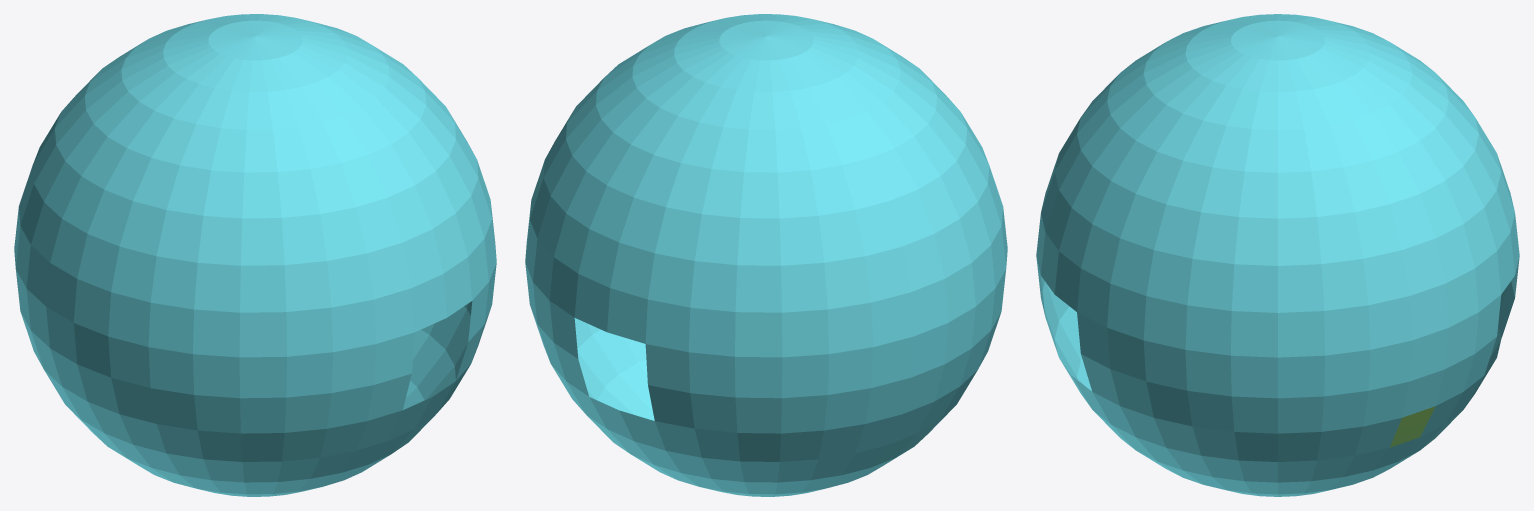
File: domo.fbx
The picture shows the model from 3 angles, left to right: view 1: azimuth 30°, elevation 25°; view 2: azimuth 150°, elevation 25°; view 3: azimuth 270°, elevation 25°; orthographic projection.
Visible parts, largest first — view 1: Sphere; view 2: Sphere; view 3: Sphere.
Part boxes in pixels (x1=…): Sphere: x1=14, y1=14, x2=496, y2=496; Sphere: x1=525, y1=14, x2=1007, y2=496; Sphere: x1=1036, y1=14, x2=1519, y2=496.
Size of the model in its own units: 14406 by 14406 by 14406.
1 material, 1 textured.
